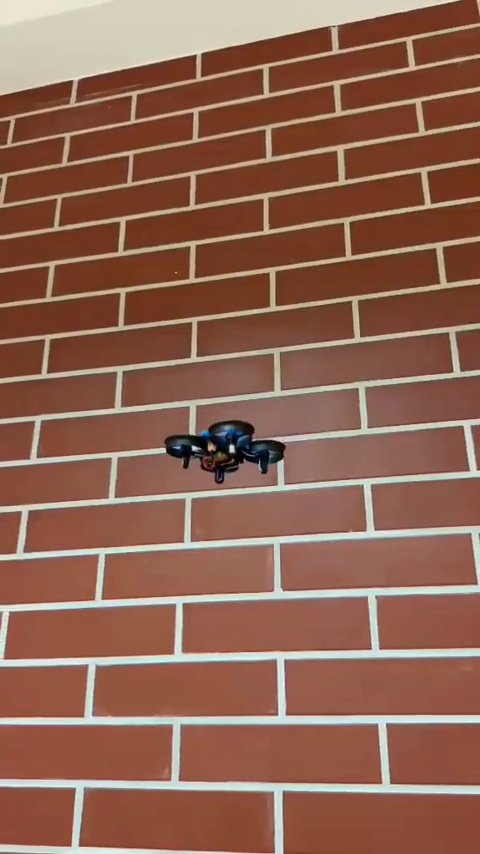drone: (166, 420, 285, 488)
